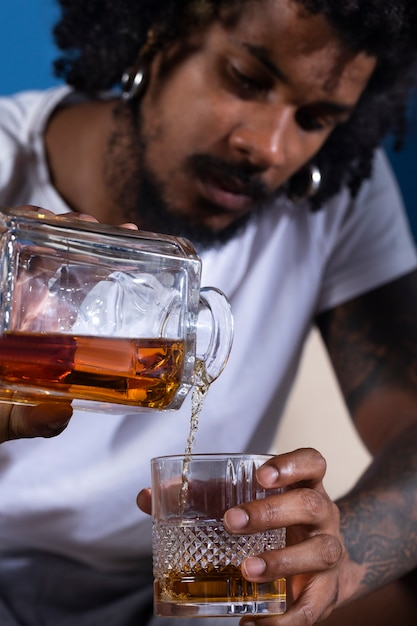alcohol: (0, 211, 235, 417), (149, 453, 296, 618)
